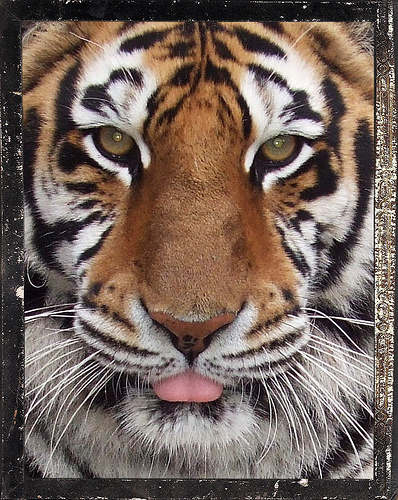Tigre: (51, 35, 369, 419)
